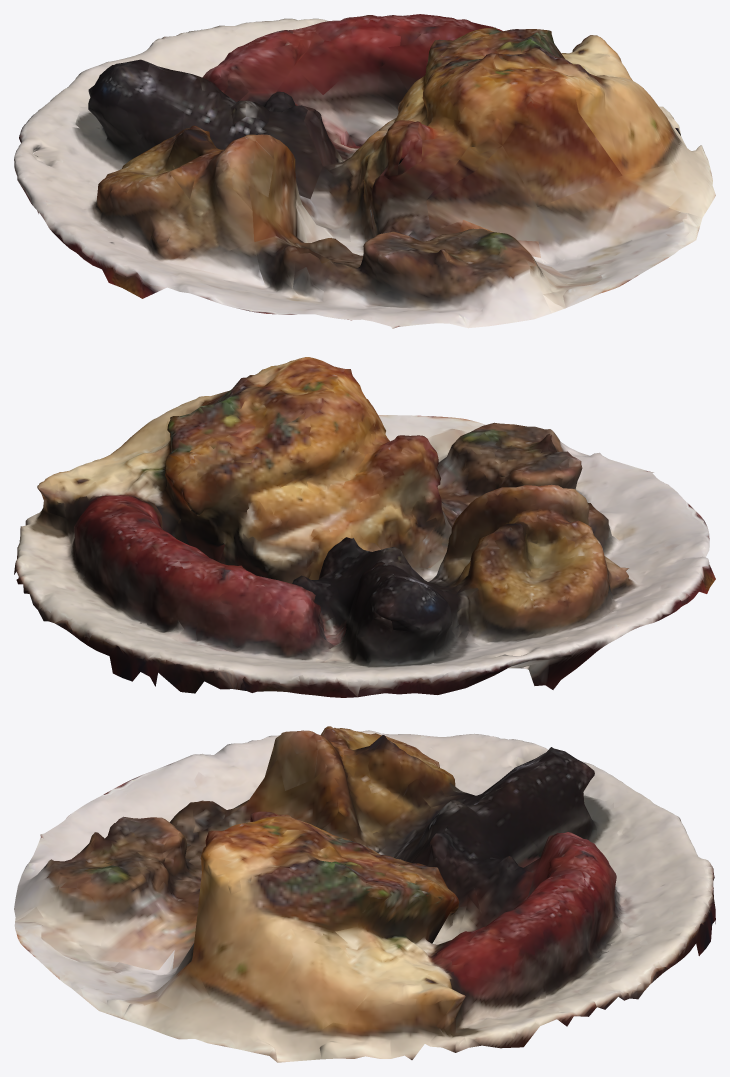
File: asado.glb
The picture shows the model from 3 angles, top to bottom: view 1: azimuth 30°, elevation 25°; view 2: azimuth 150°, elevation 25°; view 3: azimuth 270°, elevation 25°; orthographic projection.
Visible parts, largest first — view 1: texturedMesh.001; view 2: texturedMesh.001; view 3: texturedMesh.001.
Part boxes in pixels (box(x1,y1,x2,y2)): texturedMesh.001: box(14, 14, 715, 328); texturedMesh.001: box(14, 357, 715, 697); texturedMesh.001: box(14, 726, 715, 1062).
Size of the model in its own units: 1.05 by 0.2579 by 1.04.
1 material, 1 textured.
